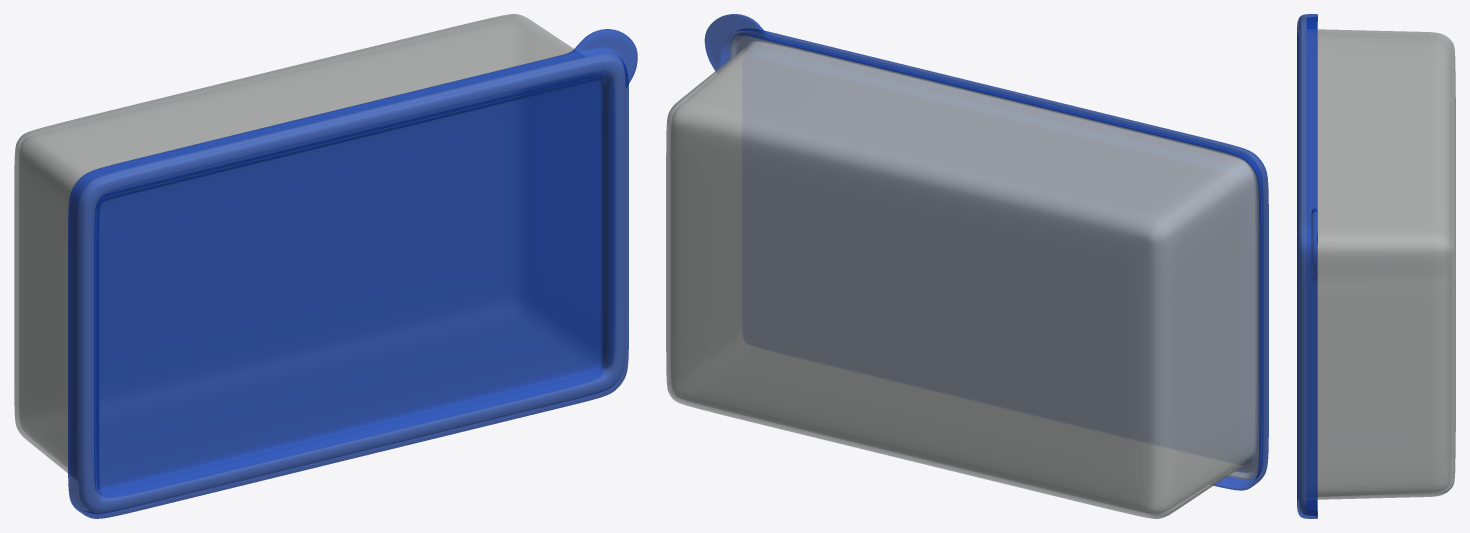
Rendered from container.obj.
3 views of the same model, side by side, from view 1: azimuth 30°, elevation 25°; view 2: azimuth 150°, elevation 25°; view 3: azimuth 270°, elevation 25° (orthographic). The views are drawn at different scales.
Visible parts, largest first — view 1: 14046_Plastic_Food_Storage_large_shallow_rectangle, Lid; view 2: 14046_Plastic_Food_Storage_large_shallow_rectangle, Lid; view 3: 14046_Plastic_Food_Storage_large_shallow_rectangle, Lid.
Part boxes in pixels (x1,y1,x2,y2): 14046_Plastic_Food_Storage_large_shallow_rectangle: (14, 14, 625, 512); Lid: (68, 29, 637, 518); 14046_Plastic_Food_Storage_large_shallow_rectangle: (666, 30, 1265, 518); Lid: (704, 14, 1268, 490); 14046_Plastic_Food_Storage_large_shallow_rectangle: (1299, 16, 1455, 512); Lid: (1297, 14, 1317, 518).
Size of the model in its own units: 27.07 by 16.46 by 7.7.
